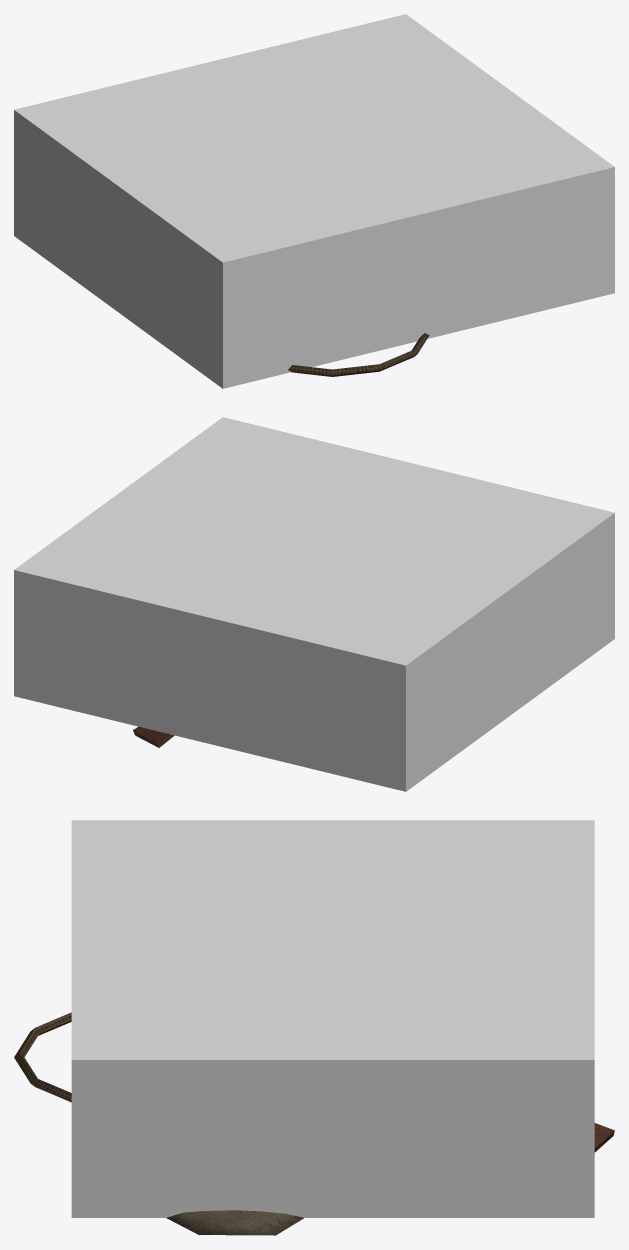
Rendered from burial_urn_opened.glb.
3 views of the same model, one above another, from view 1: azimuth 30°, elevation 25°; view 2: azimuth 150°, elevation 25°; view 3: azimuth 270°, elevation 25° (orthographic). The views are drawn at different scales.
Parts seen in each view (by area): view 1: col_click, burial_urn_opened; view 2: col_click; view 3: col_click, burial_urn_opened.
Part boxes in pixels (left/top/right/bottom): col_click: left=14, top=14, right=614, bottom=388; burial_urn_opened: left=288, top=333, right=429, bottom=376; col_click: left=14, top=417, right=614, bottom=791; col_click: left=71, top=820, right=594, bottom=1217; burial_urn_opened: left=14, top=1012, right=614, bottom=1235.
Bounding box in the file's own units: 1.4 × 0.4557 × 1.38.
Materials: 4 (4 with a texture image).
